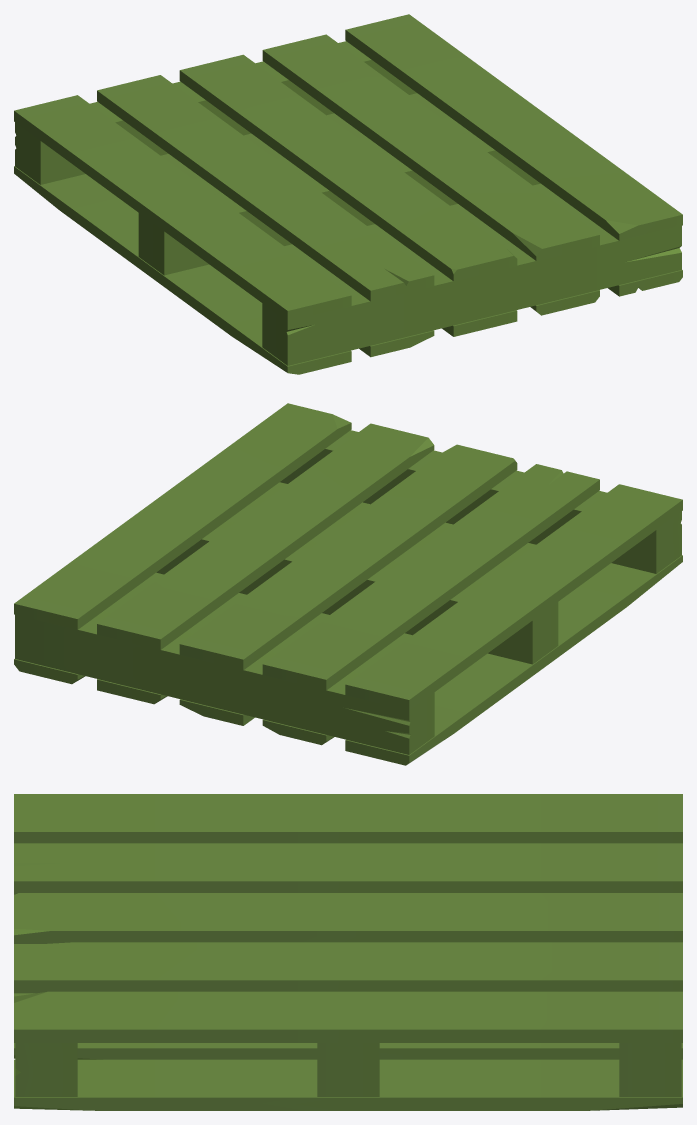
Rendered from Pallet_02.fbx.
The picture shows the model from 3 angles, top to bottom: view 1: azimuth 30°, elevation 25°; view 2: azimuth 150°, elevation 25°; view 3: azimuth 270°, elevation 25°; orthographic projection. The views are drawn at different scales.
Parts seen in each view (by area): view 1: Pallet_02; view 2: Pallet_02; view 3: Pallet_02.
Boxes of the visible parts, x1,y1,x2,y2 form: Pallet_02: (14,14,682,374); Pallet_02: (14,403,682,765); Pallet_02: (14,794,682,1110).
Bounding box in the file's own units: 1.25 × 0.2009 × 1.5.
